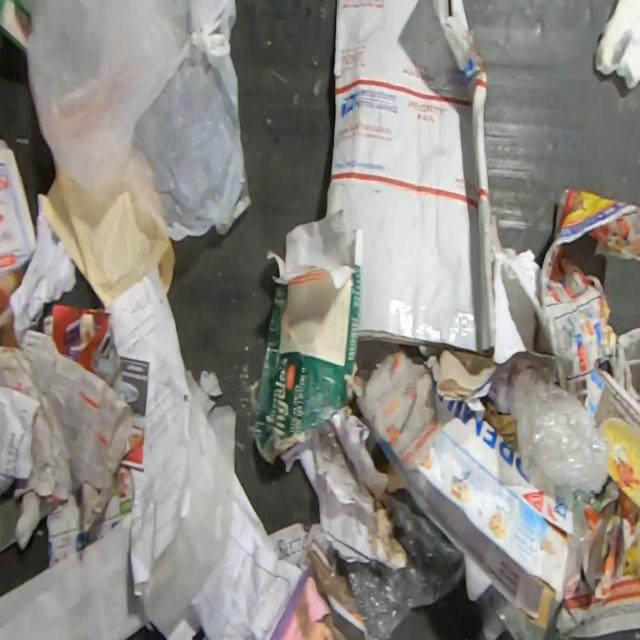cardboard: (322, 0, 501, 361), (368, 397, 575, 629), (250, 208, 365, 470)
soft_plastic: (12, 0, 252, 240), (336, 487, 463, 640), (509, 366, 610, 511), (562, 497, 592, 589)
